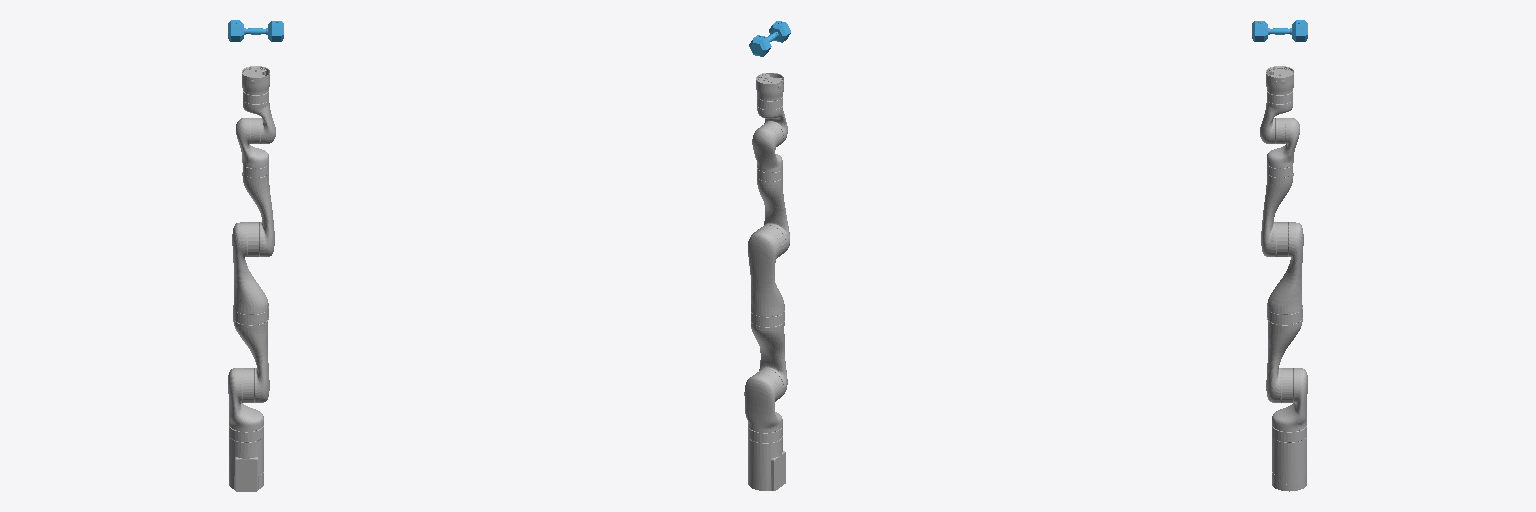
URDF robot description (GEN3_URDF_V12):
<?xml version="1.0" ?>
<robot name="GEN3_URDF_V12" version="1.0">
  <!-- <link name="world">
  </link>
  <joint name="Fix_world" type="fixed">
    <parent link="world" />
    <child link="Base_Link" />
  </joint> -->
  <link name="Base_Link">
    <inertial>
      <origin xyz="-0.000648 -0.000166 0.084487" rpy="0 0 0" />
      <mass value="0" />
      <inertia ixx="0.004622" ixy="9E-06" ixz="6E-05" iyy="0.004495" iyz="9E-06" izz="0.002079" />
    </inertial>
    <visual>
      <origin xyz="0 0 0" rpy="0 0 0" />
      <geometry>
        <mesh filename="meshes/base_link_kinova.obj" />
      </geometry>
      <material name="">
        <color rgba="0.75294 0.75294 0.75294 1" />
      </material>
    </visual>
    <collision>
      <origin xyz="0 0 0" rpy="0 0 0" />
      <geometry>
        <mesh filename="meshes/base_link_kinova.stl" />
      </geometry>
    </collision>
  </link>
  <link name="Shoulder_Link">
    <inertial>
      <origin xyz="-2.3E-05 -0.010364 -0.07336" rpy="0 0 0" />
      <mass value="1.3773" />
      <inertia ixx="0.00457" ixy="1E-06" ixz="2E-06" iyy="0.004831" iyz="0.000448" izz="0.001409" />
    </inertial>
    <visual>
      <origin xyz="0 0 0" rpy="0 0 0" />
      <geometry>
        <mesh filename="meshes/shoulder_link.obj" />
      </geometry>
      <material name="">
        <color rgba="0.75294 0.75294 0.75294 1" />
      </material>
    </visual>
    <collision>
      <origin xyz="0 0 0" rpy="0 0 0" />
      <geometry>
        <mesh filename="meshes/shoulder_link.stl" />
      </geometry>
    </collision>
  </link>
  <joint name="Actuator1" type="continuous">
    <origin xyz="0 0 0.15643" rpy="3.1416 2.7629E-18 -4.9305E-36" />
    <parent link="Base_Link" />
    <child link="Shoulder_Link" />
    <axis xyz="0 0 1" />
    <limit lower="-1000" upper="1000" effort="39" velocity="0.8727" />
  </joint>
  <link name="HalfArm1_Link">
    <inertial>
      <origin xyz="-4.4E-05 -0.09958 -0.013278" rpy="0 0 0" />
      <mass value="1.1636" />
      <inertia ixx="0.011088" ixy="5E-06" ixz="0" iyy="0.001072" iyz="-0.000691" izz="0.011255" />
    </inertial>
    <visual>
      <origin xyz="0 0 0" rpy="0 0 0" />
      <geometry>
        <mesh filename="meshes/half_arm_1_link.obj" />
      </geometry>
      <material name="">
        <color rgba="0.75294 0.75294 0.75294 1" />
      </material>
    </visual>
    <collision>
      <origin xyz="0 0 0" rpy="0 0 0" />
      <geometry>
        <mesh filename="meshes/half_arm_1_link.stl" />
      </geometry>
    </collision>
  </link>
  <joint name="Actuator2" type="revolute">
    <origin xyz="0 0.005375 -0.12838" rpy="1.5708 2.1343E-17 -1.1102E-16" />
    <parent link="Shoulder_Link" />
    <child link="HalfArm1_Link" />
    <axis xyz="0 0 1" />
    <limit lower="-2.41" upper="2.41" effort="39" velocity="0.8727" />
  </joint>
  <link name="HalfArm2_Link">
    <inertial>
      <origin xyz="-4.4E-05 -0.006641 -0.117892" rpy="0 0 0" />
      <mass value="1.1636" />
      <inertia ixx="0.010932" ixy="0" ixz="-7E-06" iyy="0.011127" iyz="0.000606" izz="0.001043" />
    </inertial>
    <visual>
      <origin xyz="0 0 0" rpy="0 0 0" />
      <geometry>
        <mesh filename="meshes/half_arm_2_link.obj" />
      </geometry>
      <material name="">
        <color rgba="0.75294 0.75294 0.75294 1" />
      </material>
    </visual>
    <collision>
      <origin xyz="0 0 0" rpy="0 0 0" />
      <geometry>
        <mesh filename="meshes/half_arm_2_link.stl" />
      </geometry>
    </collision>
  </link>
  <joint name="Actuator3" type="continuous">
    <origin xyz="0 -0.21038 -0.006375" rpy="-1.5708 1.2326E-32 -2.9122E-16" />
    <parent link="HalfArm1_Link" />
    <child link="HalfArm2_Link" />
    <axis xyz="0 0 1" />
    <limit lower="-1000" upper="1000" effort="39" velocity="0.8727" />
  </joint>
  <link name="ForeArm_Link">
    <inertial>
      <origin xyz="-1.8E-05 -0.075478 -0.015006" rpy="0 0 0" />
      <mass value="0.9302" />
      <inertia ixx="0.008147" ixy="-1E-06" ixz="0" iyy="0.000631" iyz="-0.0005" izz="0.008316" />
    </inertial>
    <visual>
      <origin xyz="0 0 0" rpy="0 0 0" />
      <geometry>
        <mesh filename="meshes/forearm_link.obj" />
      </geometry>
      <material name="">
        <color rgba="0.75294 0.75294 0.75294 1" />
      </material>
    </visual>
    <collision>
      <origin xyz="0 0 0" rpy="0 0 0" />
      <geometry>
        <mesh filename="meshes/forearm_link.stl" />
      </geometry>
    </collision>
  </link>
  <joint name="Actuator4" type="revolute">
    <origin xyz="0 0.006375 -0.21038" rpy="1.5708 -6.6954E-17 -1.6653E-16" />
    <parent link="HalfArm2_Link" />
    <child link="ForeArm_Link" />
    <axis xyz="0 0 1" />
    <limit lower="-2.66" upper="2.66" effort="39" velocity="0.8727" />
  </joint>
  <link name="SphericalWrist1_Link">
    <inertial>
      <origin xyz="1E-06 -0.009432 -0.063883" rpy="0 0 0" />
      <mass value="0.6781" />
      <inertia ixx="0.001596" ixy="0" ixz="0" iyy="0.001607" iyz="0.000256" izz="0.000399" />
    </inertial>
    <visual>
      <origin xyz="0 0 0" rpy="0 0 0" />
      <geometry>
        <mesh filename="meshes/spherical_wrist_1_link.obj" />
      </geometry>
      <material name="">
        <color rgba="0.75294 0.75294 0.75294 1" />
      </material>
    </visual>
    <collision>
      <origin xyz="0 0 0" rpy="0 0 0" />
      <geometry>
        <mesh filename="meshes/spherical_wrist_1_link.stl" />
      </geometry>
    </collision>
  </link>
  <joint name="Actuator5" type="continuous">
    <origin xyz="0 -0.20843 -0.006375" rpy="-1.5708 2.2204E-16 -6.373E-17" />
    <parent link="ForeArm_Link" />
    <child link="SphericalWrist1_Link" />
    <axis xyz="0 0 1" />
    <limit lower="-1000" upper="1000" effort="9" velocity="0.8727" />
  </joint>
  <link name="SphericalWrist2_Link">
    <inertial>
      <origin xyz="1E-06 -0.045483 -0.00965" rpy="0 0 0" />
      <mass value="0.6781" />
      <inertia ixx="0.001641" ixy="0" ixz="0" iyy="0.00041" iyz="-0.000278" izz="0.001641" />
    </inertial>
    <visual>
      <origin xyz="0 0 0" rpy="0 0 0" />
      <geometry>
        <mesh filename="meshes/spherical_wrist_2_link.obj" />
      </geometry>
      <material name="">
        <color rgba="0.75294 0.75294 0.75294 1" />
      </material>
    </visual>
    <collision>
      <origin xyz="0 0 0" rpy="0 0 0" />
      <geometry>
        <mesh filename="meshes/spherical_wrist_2_link.stl" />
      </geometry>
    </collision>
  </link>
  <joint name="Actuator6" type="revolute">
    <origin xyz="0 0.00017505 -0.10593" rpy="1.5708 9.2076E-28 -8.2157E-15" />
    <parent link="SphericalWrist1_Link" />
    <child link="SphericalWrist2_Link" />
    <axis xyz="0 0 1" />
    <limit lower="-2.23" upper="2.23" effort="9" velocity="0.8727" />
  </joint>
  <link name="Bracelet_Link">
    <inertial>
      <origin xyz="-0.000281 -0.011402 -0.029798" rpy="0 0 0" />
      <mass value="0.5006" />
      <inertia ixx="0.000587" ixy="3E-06" ixz="3E-06" iyy="0.000369" iyz="0.000118" izz="0.000609" />
    </inertial>
    <visual>
      <origin xyz="0 0 0" rpy="0 0 0" />
      <geometry>
        <mesh filename="meshes/bracelet_no_vision_link.obj" />
      </geometry>
      <material name="">
        <color rgba="0.75294 0.75294 0.75294 1" />
      </material>
    </visual>
    <collision>
      <origin xyz="0 0 0" rpy="0 0 0" />
      <geometry>
        <mesh filename="meshes/bracelet_no_vision_link.stl" />
      </geometry>
    </collision>
  </link>
  <joint name="Actuator7" type="continuous">
    <origin xyz="0 -0.10593 -0.00017505" rpy="-1.5708 -5.5511E-17 9.6396E-17" />
    <parent link="SphericalWrist2_Link" />
    <child link="Bracelet_Link" />
    <axis xyz="0 0 1" />
    <limit lower="-1000" upper="1000" effort="9" velocity="0.8727" />
  </joint>
  <link name="EndEffector_Link" />
  <joint name="EndEffector" type="fixed">
    <origin xyz="0 0 -0.0615250000000001" rpy="3.14159265358979 1.09937075168372E-32 0" />
    <parent link="Bracelet_Link" />
    <child link="EndEffector_Link" />
    <axis xyz="0 0 0" />
  </joint>
  
  <!-- <link name="Camera_Link" />
  <joint name="Camera" type="fixed">
    <origin xyz="0 0.05639 -0.00305" rpy="3.14159265358979 3.14159265358979 0" />
    <parent link="EndEffector_Link" />
    <child  link="Camera_Link" />
  </joint>
  <link name="Camera_Depth_Frame" />
  <joint name="Camera_Depth" type="fixed">
    <origin xyz="0.0275 0.066 -0.00305" rpy="3.14159265358979 3.14159265358979 0" />
    <parent link="EndEffector_Link" />
    <child  link="Camera_Depth_Frame" />
  </joint>
  <link name="Camera_Color_Frame" />
  <joint name="Camera_Color" type="fixed">
    <origin xyz="0 0.05639 -0.00305" rpy="3.14159265358979 3.14159265358979 0" />
    <parent link="EndEffector_Link" />
    <child  link="Camera_Color_Frame" />
  </joint> -->
  <!-- <link name="Tool_Frame"/>
  <joint name="Tool" type="fixed">
      <origin xyz="0 0 0.120" rpy="0 0 0" />
      <parent link="EndEffector_Link" />
      <child link="Tool_Frame" />
      <axis xyz="0 0 0" />
  </joint> -->

  <joint name="dumbbell_joint" type="fixed">
    <!-- <origin rpy="0 0 0" xyz="0 0 0" /> -->
    <origin xyz="0 0 0.120" rpy="0 0 0" />
    <parent link="EndEffector_Link" />
    <child link="dumbbell_link" />
  </joint>

  <link name="dumbbell_link">
    <inertial>
      <origin rpy="1.571 0 0" xyz="0 0 0" />
      <!-- <mass value="6.8" /> -->
      <mass value="0.9" />
      <!-- [author] just made up these values! -->
      <!-- <inertia ixx="0.01" ixy="0" ixz="0" iyy="0.01" iyz="0" izz="0.005" /> -->
      <inertia ixx="0.0" ixy="0.0" ixz="0.0" iyy="0.0" iyz="0.0" izz="0.0" />
    </inertial>
    <visual>
      <!-- <origin rpy="0 1.5708 0" xyz="-0.05 -0.075 0.15"/> -->
      <origin rpy="1.571 0 0" xyz="0 0 0"/>
      <geometry>
        <mesh filename="meshes/BlackDumbbell_assem_scaled.stl" scale="0.5 0.5 0.5"/>
      </geometry>
      <collision>
        <!-- <origin rpy="0 1.5708 0" xyz="-0.05 -0.075 0.15"/> -->
        <origin rpy="1.571 0 0" xyz="0 0 0"/>
        <geometry>
            <mesh filename="meshes/BlackDumbbell_assem_scaled.stl" scale="0.5 0.5 0.5"/>
        </geometry>
        </collision>
      <!-- <material name="">
        <color rgba="0 0 0 1" />
      </material> -->
    </visual>
  </link>

  <!-- <klampt world_frame="world" defaultAccMax="4">
    <noselfcollision group1="Base_Link Shoulder_Link" group2="HalfArm1_Link HalfArm2_Link ForeArm_Link SphericalWrist1_Link" />
    <noselfcollision group1="HalfArm1_Link HalfArm2_Link" group2="ForeArm_Link SphericalWrist1_Link" />
    <noselfcollision group1="HalfArm2_Link ForeArm_Link" group2="SphericalWrist1_Link SphericalWrist2_Link Bracelet_Link" />
    <noselfcollision group1="SphericalWrist1_Link" group2="Bracelet_Link" />
    
    <mount link="EndEffector_Link" file = "robotiq_85.rob" transform = "1 0 0   0 1 0  0 0 1  0 0 0" prefix="gripper"/>
    <noselfcollision group1="ForeArm_Link SphericalWrist1_Link SphericalWrist2_Link Bracelet_Link" group2="gripper:Link_0 gripper:Link_1 gripper:Link_2 gripper:Link_3 gripper:Link_4 gripper:Link_5 gripper:Link_6 gripper:Link_7 gripper:Link_8" />
    <noselfcollision group1="HalfArm2_Link" group2="gripper:Link_0" />
    
    <link name="Shoulder_Link" servoP="1400" servoI="0" servoD="6" dryFriction="0.5" viscousFriction="8" />
    <link name="HalfArm1_Link" servoP="1600" servoI="0" servoD="8" dryFriction="0.5" viscousFriction="10" />
    <link name="HalfArm2_Link" servoP="1000" servoI="0" servoD="3" dryFriction="0" viscousFriction="6" />
    <link name="ForeArm_Link" servoP="800" servoI="0" servoD="5" dryFriction="0" viscousFriction="4" />
    <link name="SphericalWrist1_Link" servoP="200" servoI="0" servoD=".5" dryFriction="0" viscousFriction="3" />
    <link name="SphericalWrist2_Link" servoP="50" servoI="0" servoD=".2" dryFriction="0" viscousFriction="2" />
    <link name="Bracelet_Link" servoP="20" servoI="0" servoD=".1" dryFriction="0" viscousFriction="1" />
  </klampt> -->

</robot>

--- Facts derived from the render (not from the file) ---
3 views of the same robot in one strip: view 1: azimuth 90°, elevation 25°; view 2: azimuth 150°, elevation 25°; view 3: azimuth 270°, elevation 25° (orthographic).
Model GEN3_URDF_V12 with 10 links and 9 joints (3 revolute, 4 continuous, 2 fixed), rooted at Base_Link, posed all joints at 0.
Links seen in each view (by area): view 1: HalfArm2_Link, Base_Link, HalfArm1_Link, Shoulder_Link, ForeArm_Link, SphericalWrist1_Link, SphericalWrist2_Link, dumbbell_link, Bracelet_Link; view 2: HalfArm2_Link, Base_Link, Shoulder_Link, HalfArm1_Link, ForeArm_Link, SphericalWrist1_Link, dumbbell_link, Bracelet_Link, SphericalWrist2_Link; view 3: HalfArm2_Link, Base_Link, HalfArm1_Link, Shoulder_Link, ForeArm_Link, SphericalWrist1_Link, SphericalWrist2_Link, dumbbell_link, Bracelet_Link.
Boxes of the visible links, x1,y1,x2,y2 form: HalfArm2_Link: (232,222,268,314); Base_Link: (229,426,263,491); HalfArm1_Link: (233,307,269,402); Shoulder_Link: (228,368,263,431); ForeArm_Link: (242,165,274,256); SphericalWrist1_Link: (236,118,268,168); SphericalWrist2_Link: (243,91,275,143); dumbbell_link: (228,20,283,41); Bracelet_Link: (242,66,269,94); HalfArm2_Link: (748,225,785,316); Base_Link: (748,427,785,490); Shoulder_Link: (744,369,783,432); HalfArm1_Link: (751,311,787,395); ForeArm_Link: (757,168,789,253); SphericalWrist1_Link: (752,122,783,172); dumbbell_link: (749,21,790,56); Bracelet_Link: (756,73,783,100); SphericalWrist2_Link: (757,97,787,144); HalfArm2_Link: (1267,222,1303,314); Base_Link: (1272,426,1306,491); HalfArm1_Link: (1266,307,1302,402); Shoulder_Link: (1272,368,1307,431); ForeArm_Link: (1261,165,1293,256); SphericalWrist1_Link: (1267,118,1299,168); SphericalWrist2_Link: (1260,91,1292,143); dumbbell_link: (1252,20,1307,41); Bracelet_Link: (1266,66,1293,94).
Size in the robot's own frame: 0.0928 by 0.1472 by 1.33 metres.
9 mesh visuals loaded from 9 distinct referenced files (1 binary STL, 8 OBJ).